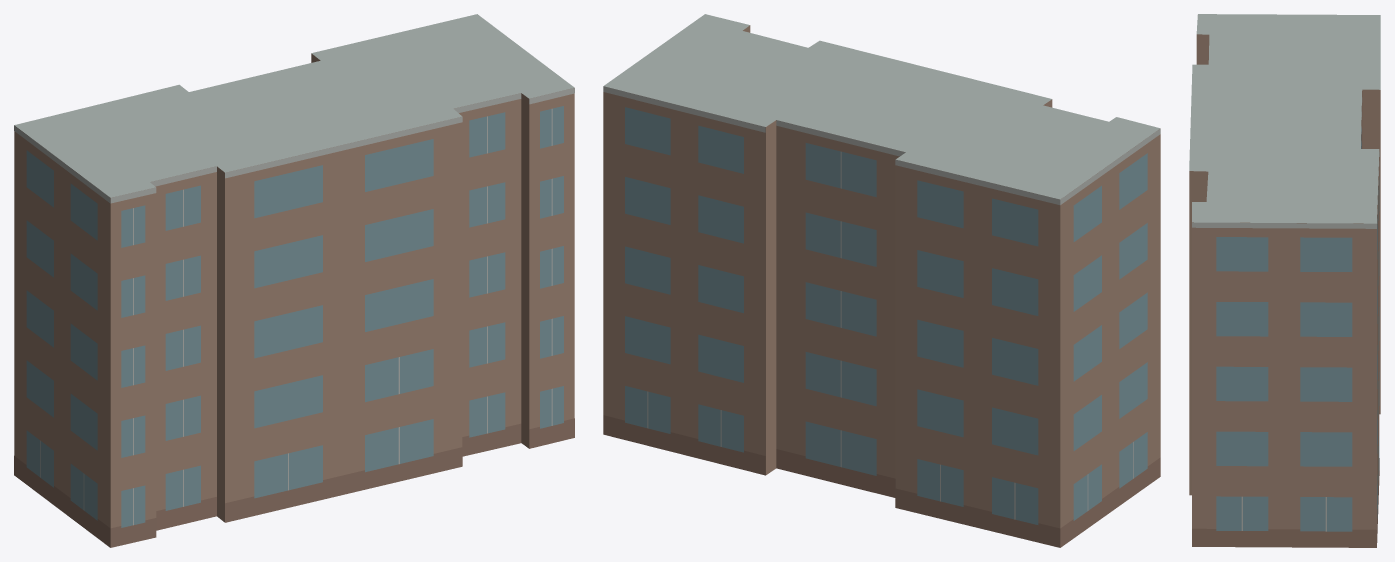
The model's file is survey-upis-32881120.glb.
The picture shows the model from 3 angles, left to right: view 1: azimuth 30°, elevation 25°; view 2: azimuth 150°, elevation 25°; view 3: azimuth 270°, elevation 25°; orthographic projection. The views are drawn at different scales.
Visible parts, largest first — view 1: survey-upis-32881120.tmp; view 2: survey-upis-32881120.tmp; view 3: survey-upis-32881120.tmp.
Boxes of the visible parts, left/top/right/bottom form: survey-upis-32881120.tmp: left=14, top=14, right=574, bottom=547; survey-upis-32881120.tmp: left=603, top=14, right=1160, bottom=547; survey-upis-32881120.tmp: left=1189, top=14, right=1380, bottom=547.
Bounding box in the file's own units: 20.51 × 14.8 × 7.94.
